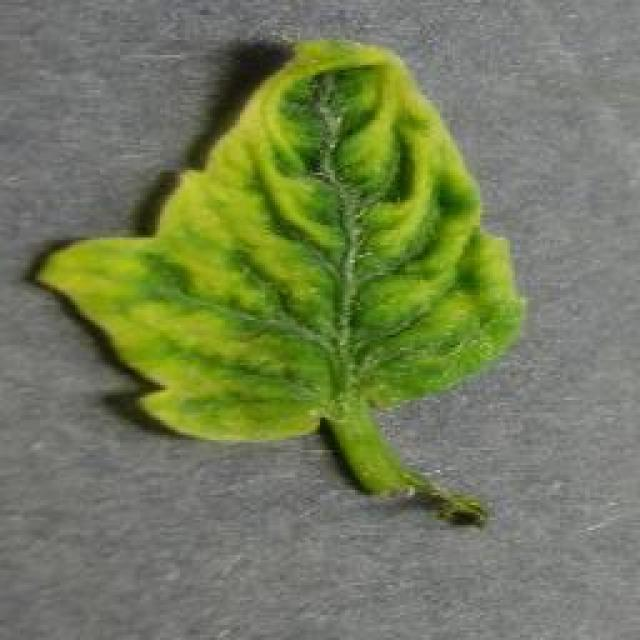Tomato yellow virus leaf: (29, 31, 534, 449)
